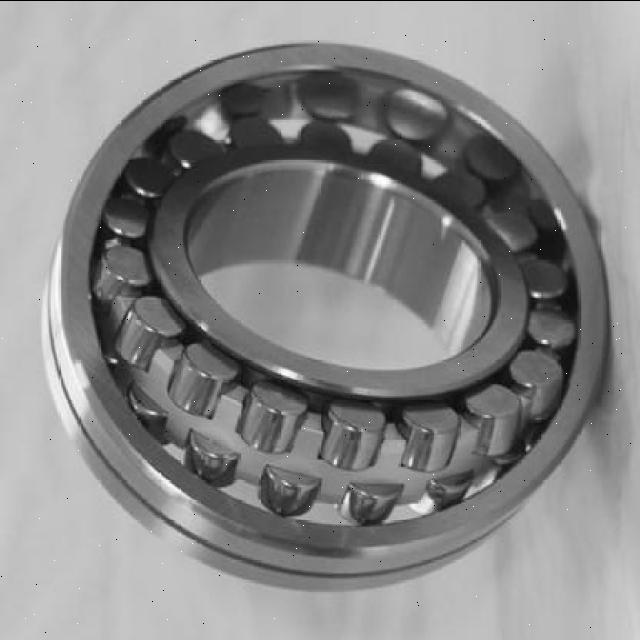Bearing: (43, 37, 614, 598)
